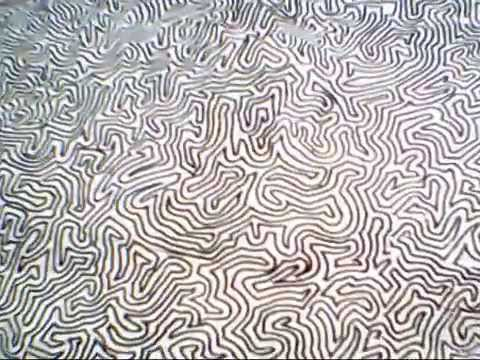maze: (1, 1, 479, 359)
